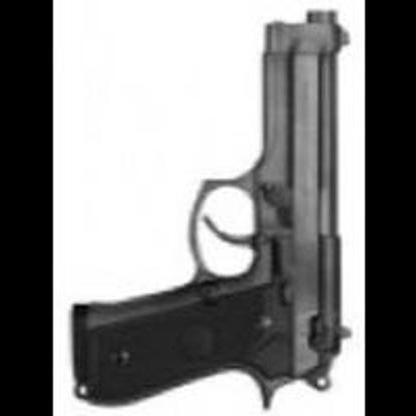weapon: (63, 5, 355, 416)
